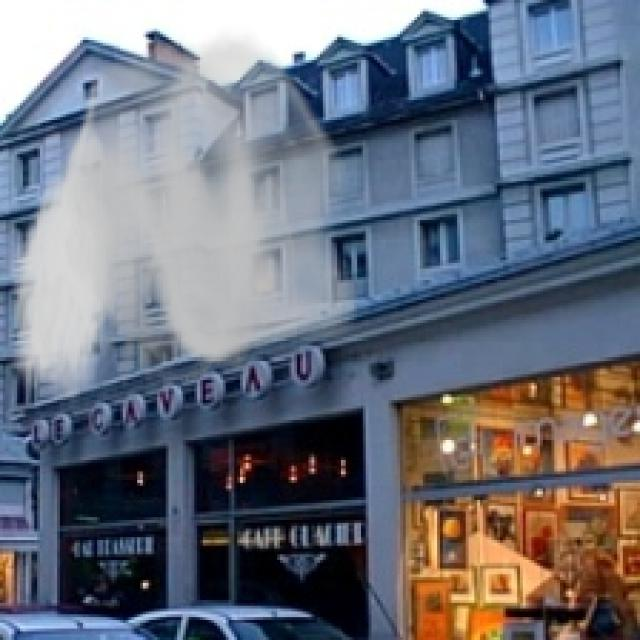smoke: (6, 23, 357, 408)
